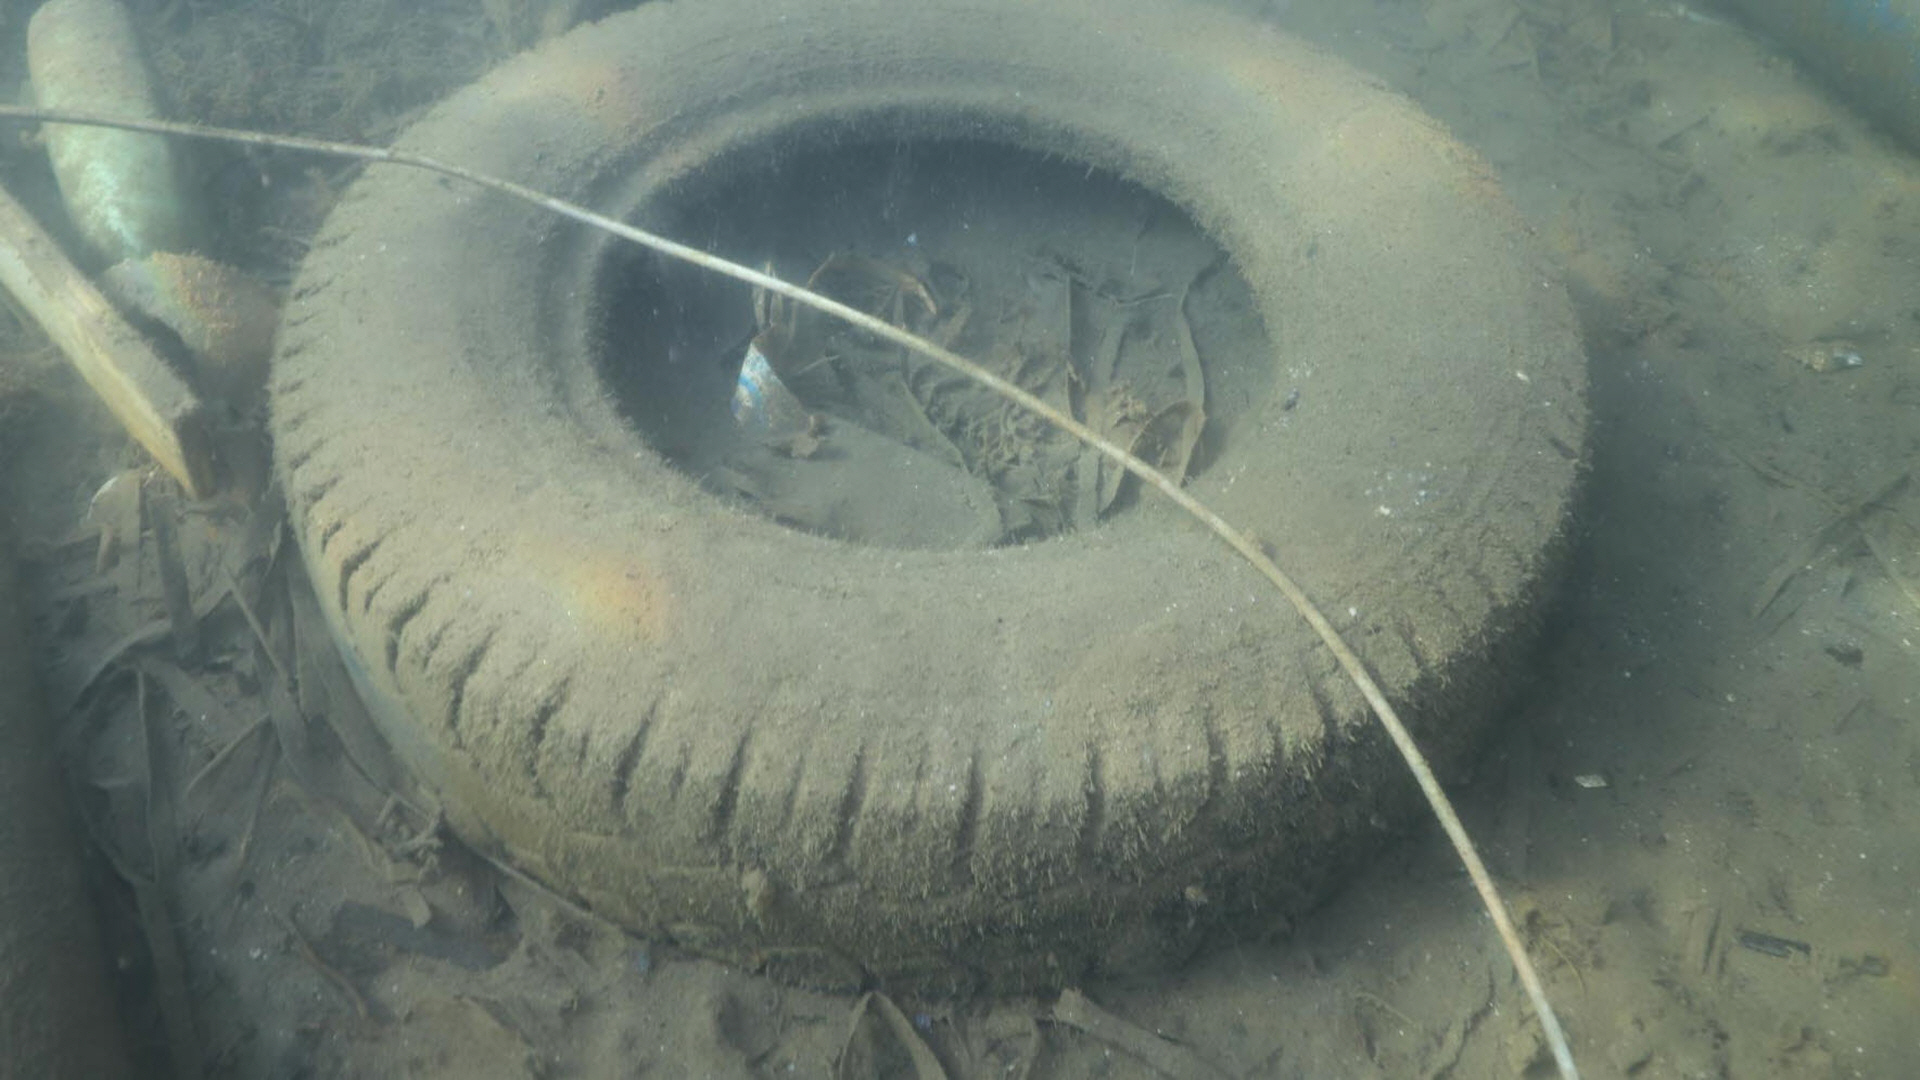tire: (269, 0, 1594, 1007)
